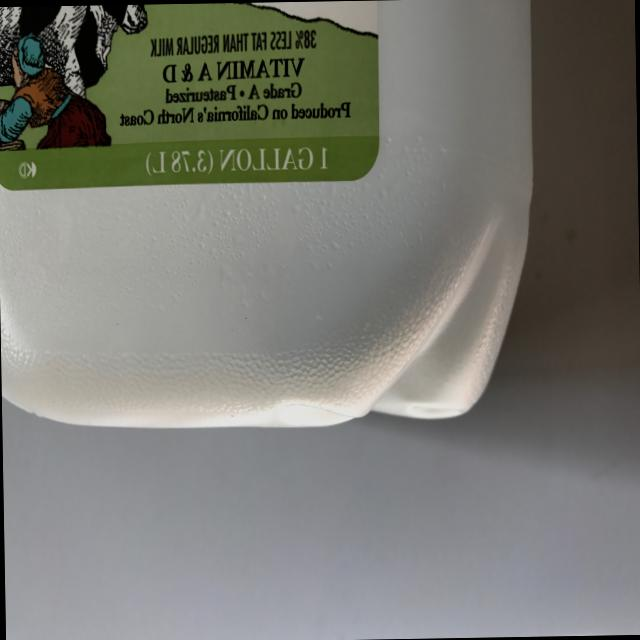Plastic: (0, 0, 596, 463)
